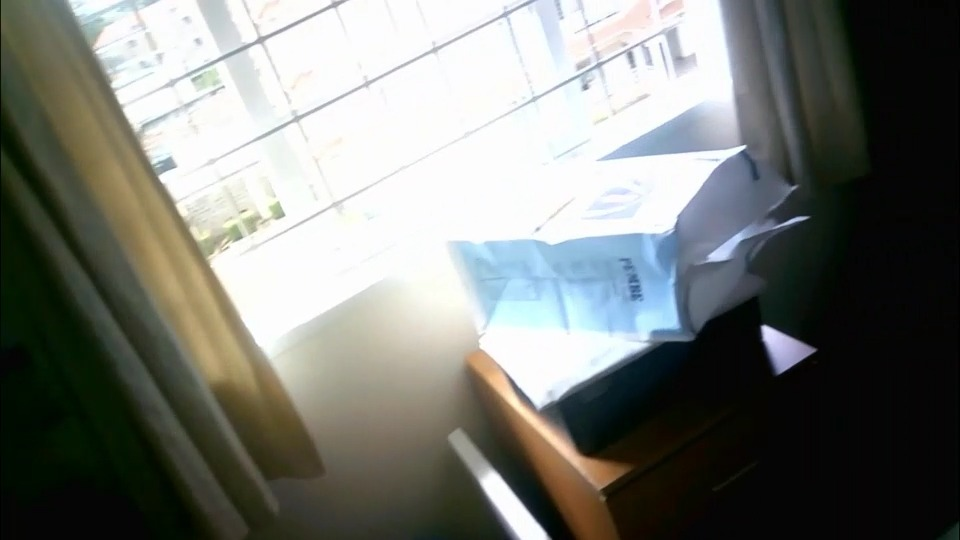wheat_flour_blue_label: (443, 145, 783, 336)
